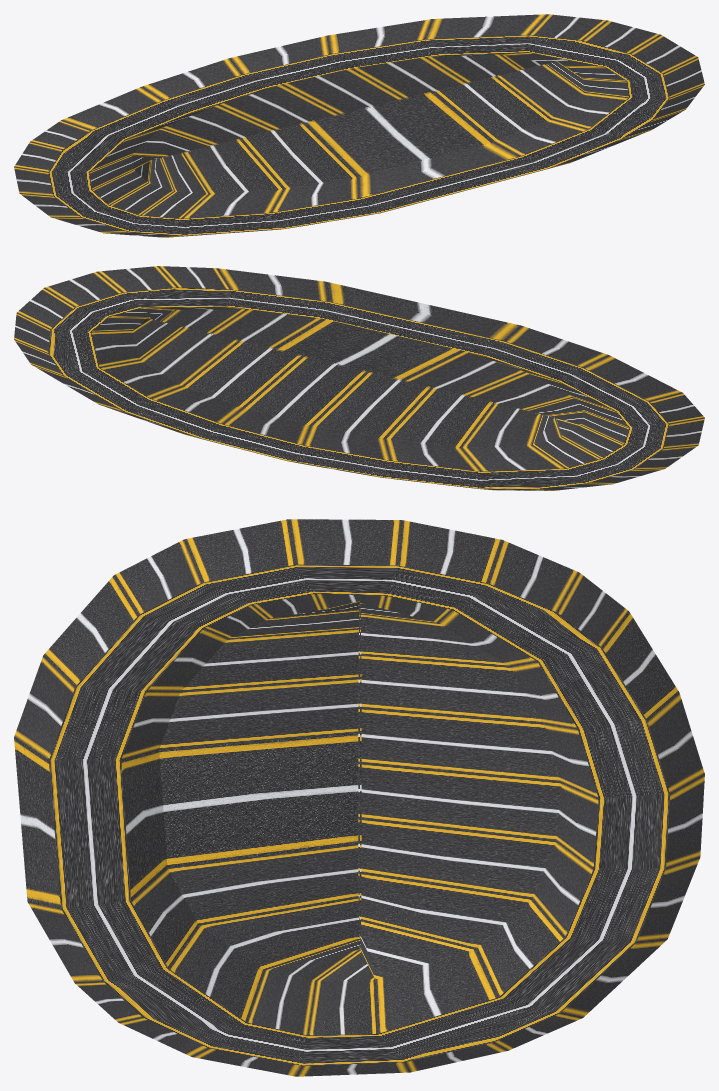
File: roady.fbx
The picture shows the model from 3 angles, top to bottom: view 1: azimuth 30°, elevation 25°; view 2: azimuth 150°, elevation 25°; view 3: azimuth 270°, elevation 25°; orthographic projection. The views are drawn at different scales.
Visible parts, largest first — view 1: loftedSurface1; view 2: loftedSurface1; view 3: loftedSurface1.
Part boxes in pixels (x1=…): loftedSurface1: x1=14, y1=14, x2=704, y2=237; loftedSurface1: x1=14, y1=266, x2=704, y2=490; loftedSurface1: x1=14, y1=519, x2=704, y2=1076.
Size of the model in its own units: 36.52 by 1.2 by 19.13.
